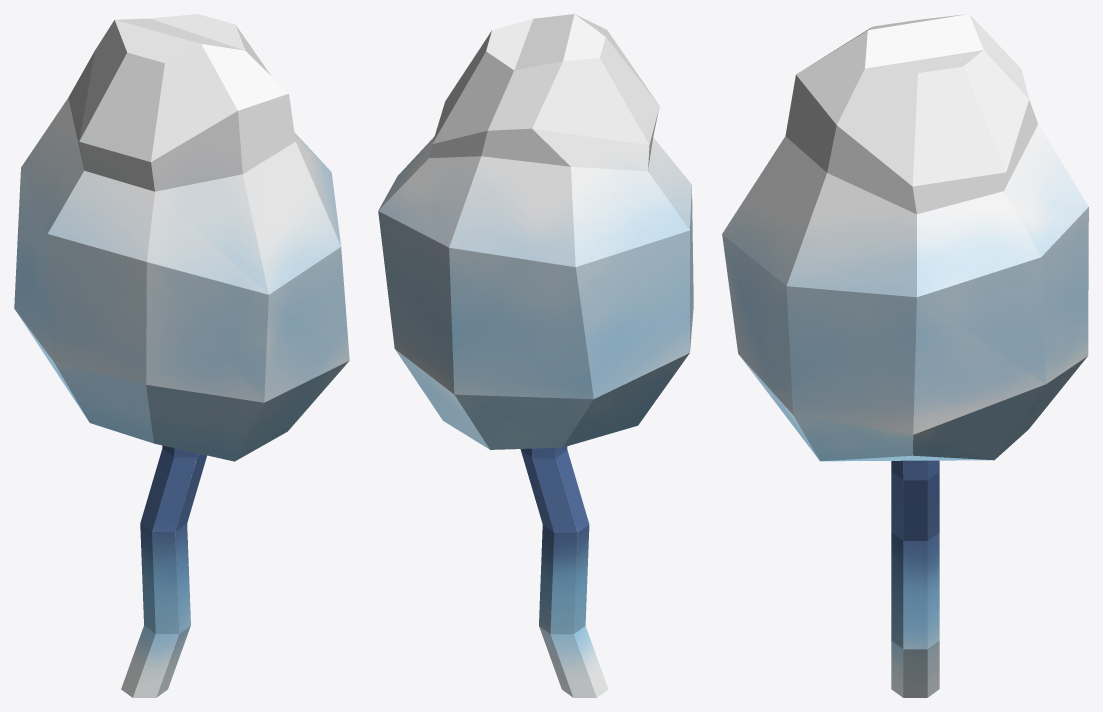
Rendered from arvore-neve.fbx.
3 renders of one model, left to right at view 1: azimuth 30°, elevation 25°; view 2: azimuth 150°, elevation 25°; view 3: azimuth 270°, elevation 25°, orthographic. The views are drawn at different scales.
Parts seen in each view (by area): view 1: arvore-neve; view 2: arvore-neve; view 3: arvore-neve.
Boxes of the visible parts, x1=… form: arvore-neve: x1=14, y1=14, x2=349, y2=697; arvore-neve: x1=378, y1=14, x2=693, y2=697; arvore-neve: x1=722, y1=14, x2=1088, y2=697.
Bounding box in the file's own units: 208 × 451 × 222.
